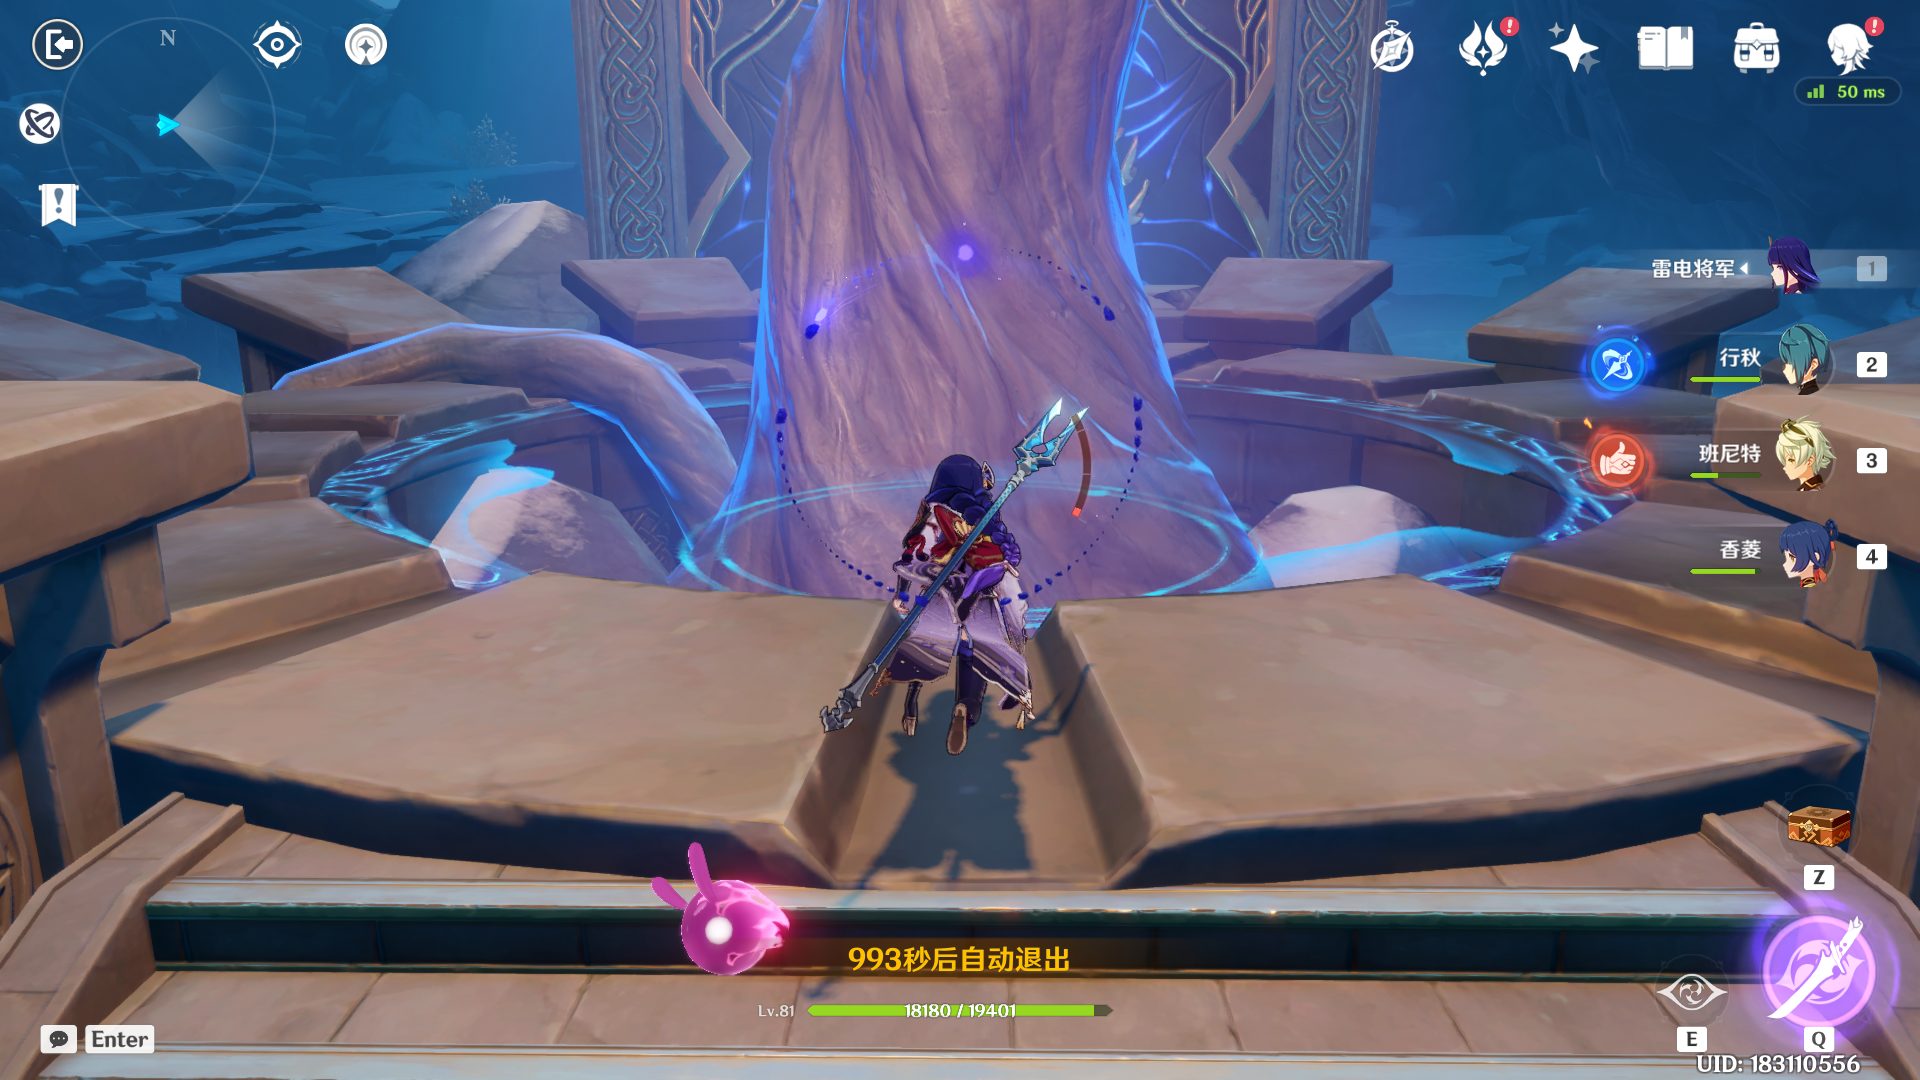character: (791, 385, 1141, 798)
